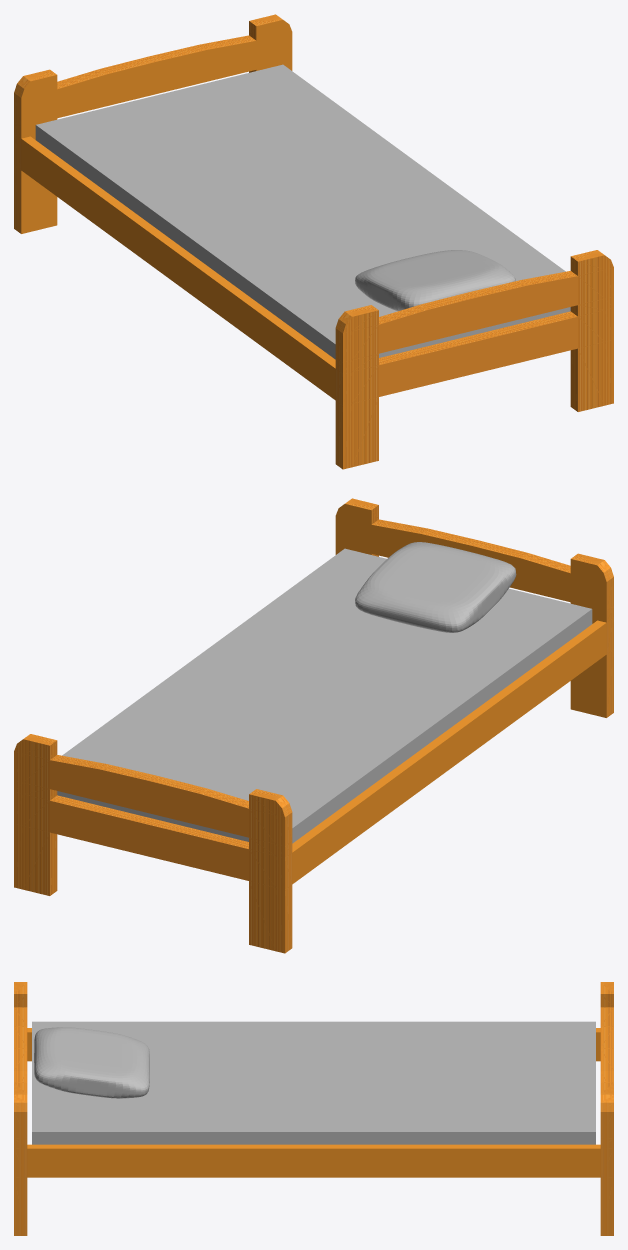
Rendered from bed.glb.
The picture shows the model from 3 angles, top to bottom: view 1: azimuth 30°, elevation 25°; view 2: azimuth 150°, elevation 25°; view 3: azimuth 270°, elevation 25°; orthographic projection. The views are drawn at different scales.
Parts seen in each view (by area): view 1: Cube.005, Cube.010; view 2: Cube.005, Cube.010; view 3: Cube.005, Cube.010.
Part boxes in pixels (box(x1,y1,x2,y2)): Cube.005: box(14, 14, 613, 469); Cube.010: box(355, 250, 515, 311); Cube.005: box(14, 498, 613, 953); Cube.010: box(355, 542, 516, 632); Cube.005: box(14, 982, 613, 1235); Cube.010: box(34, 1027, 149, 1098).
Size of the model in its own units: 0.98 by 0.52 by 2.06.
2 materials, 1 textured.
